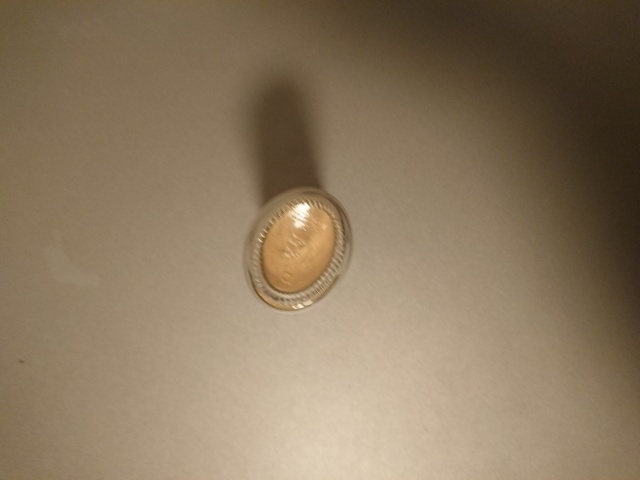Kotanyi Garlic Granules 70g: (239, 183, 354, 315)
